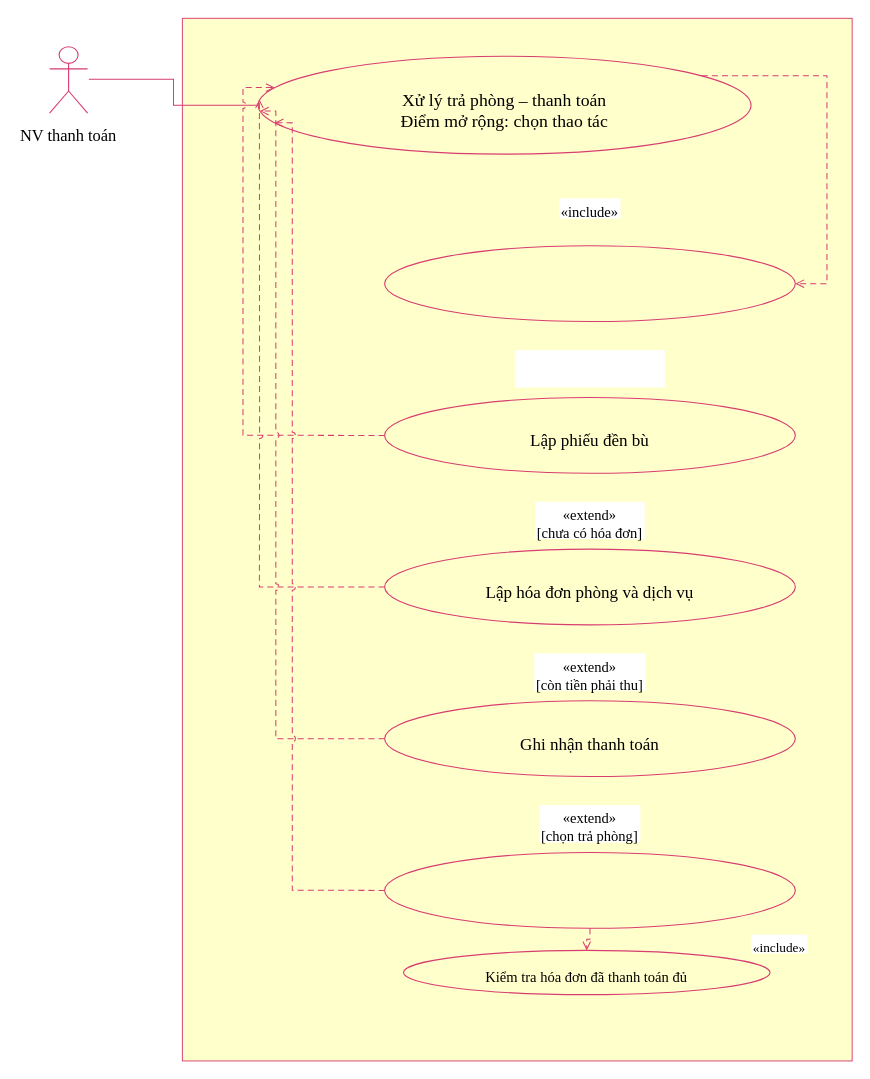
The diagram is 870 pixels wide and 1079 high, and some of its shapes have lost their labels. Each missing label, with the box of its shape:
Hoàn tất trả phòng: (384, 851, 795, 928)
Tra cứu phiếu đang ở và hóa đơn: (384, 245, 795, 322)
«extend» [tiện nghi hư hỏng / mất]: (514, 350, 664, 387)
